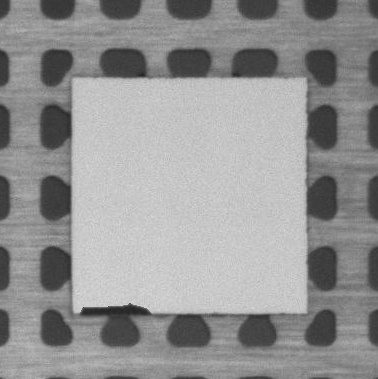DIE_BROKEN: (80, 297, 154, 315)
